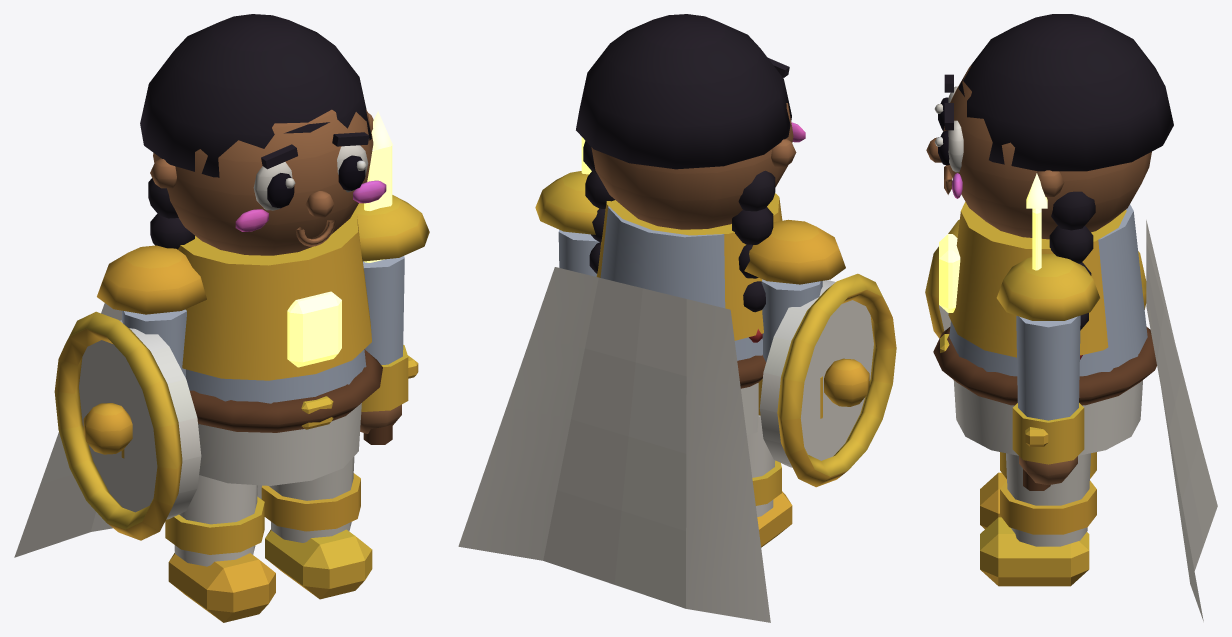
Rendered from hero_isolde.glb.
The picture shows the model from 3 angles, left to right: view 1: azimuth 30°, elevation 25°; view 2: azimuth 150°, elevation 25°; view 3: azimuth 270°, elevation 25°; orthographic projection. The views are drawn at different scales.
Parts seen in each view (by area): view 1: body_t0_palette, arml_t0_palette, legl_t0_palette, legr_t0_palette, armr_t0_palette, body_t0_glow_gold, armr_t0_glow_gold; view 2: body_t0_palette, arml_t0_palette, armr_t0_palette, legl_t0_palette; view 3: body_t0_palette, armr_t0_palette, legr_t0_palette, body_t0_glow_gold, arml_t0_palette, legl_t0_palette, armr_t0_glow_gold.
Part boxes in pixels (<box>): body_t0_palette: <box>14,14,386,557</box>; arml_t0_palette: <box>54,245,206,540</box>; legl_t0_palette: <box>165,475,275,622</box>; legr_t0_palette: <box>261,456,372,599</box>; armr_t0_palette: <box>354,195,429,444</box>; body_t0_glow_gold: <box>287,291,341,367</box>; armr_t0_glow_gold: <box>364,111,393,262</box>; body_t0_palette: <box>458,14,805,622</box>; arml_t0_palette: <box>744,219,896,487</box>; armr_t0_palette: <box>535,171,599,276</box>; legl_t0_palette: <box>747,415,792,547</box>; body_t0_palette: <box>926,14,1217,621</box>; armr_t0_palette: <box>996,254,1099,490</box>; legr_t0_palette: <box>980,453,1096,586</box>; body_t0_glow_gold: <box>939,234,960,312</box>; arml_t0_palette: <box>925,219,1146,338</box>; legl_t0_palette: <box>980,452,1096,528</box>; armr_t0_glow_gold: <box>1026,173,1047,270</box>.
Bounding box in the file's own units: 0.3349 × 0.509 × 0.254.
